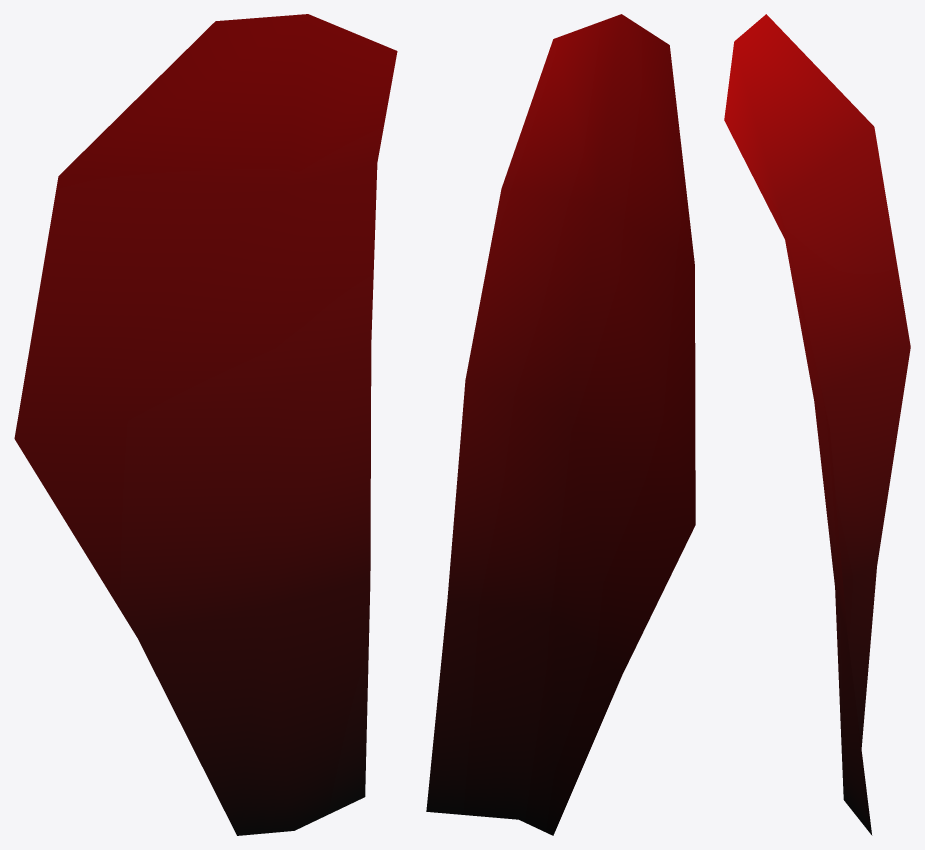
The picture shows the model from 3 angles, left to right: view 1: azimuth 30°, elevation 25°; view 2: azimuth 150°, elevation 25°; view 3: azimuth 270°, elevation 25°; orthographic projection. The views are drawn at different scales.
Parts seen in each view (by area): view 1: Cystoseira.005; view 2: Cystoseira.005; view 3: Cystoseira.005.
Boxes of the visible parts, <box> form: Cystoseira.005: <box>14,14,397,835</box>; Cystoseira.005: <box>426,14,695,835</box>; Cystoseira.005: <box>724,14,910,835</box>.
Bounding box in the file's own units: 0.4001 × 1.02 × 0.2346.
